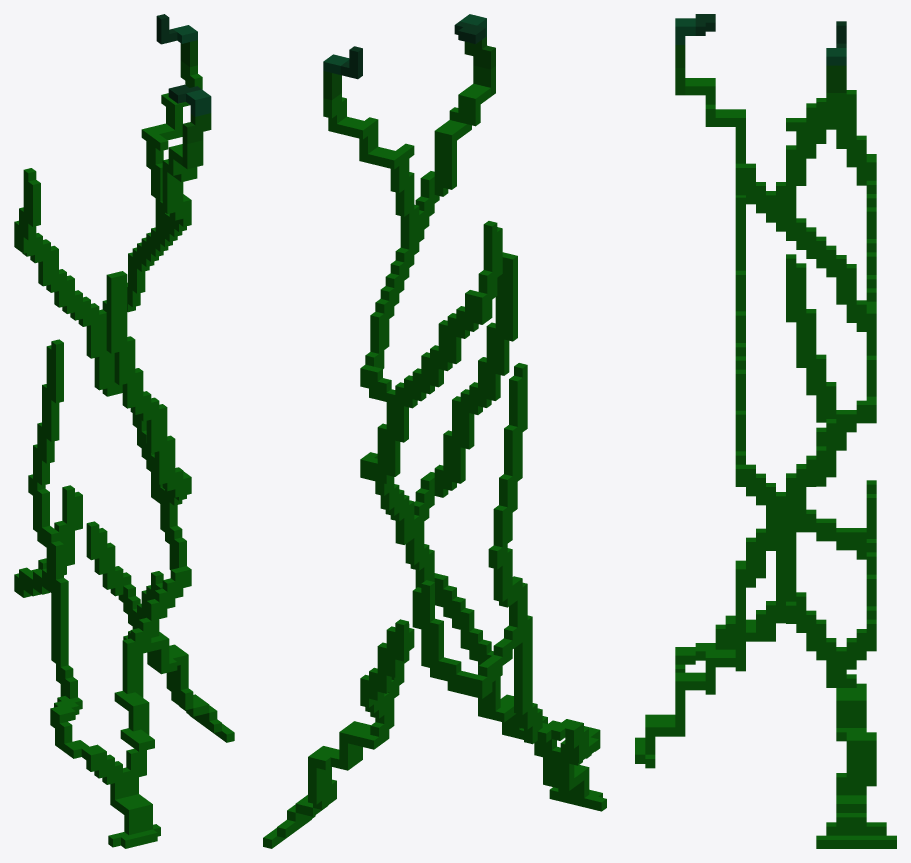
Rendered from Torch02.obj.
The picture shows the model from 3 angles, left to right: view 1: azimuth 30°, elevation 25°; view 2: azimuth 150°, elevation 25°; view 3: azimuth 270°, elevation 25°; orthographic projection. The views are drawn at different scales.
Bounding box in the file's own units: 2.7 × 8.7 × 2.6.
1 material, 1 textured.
